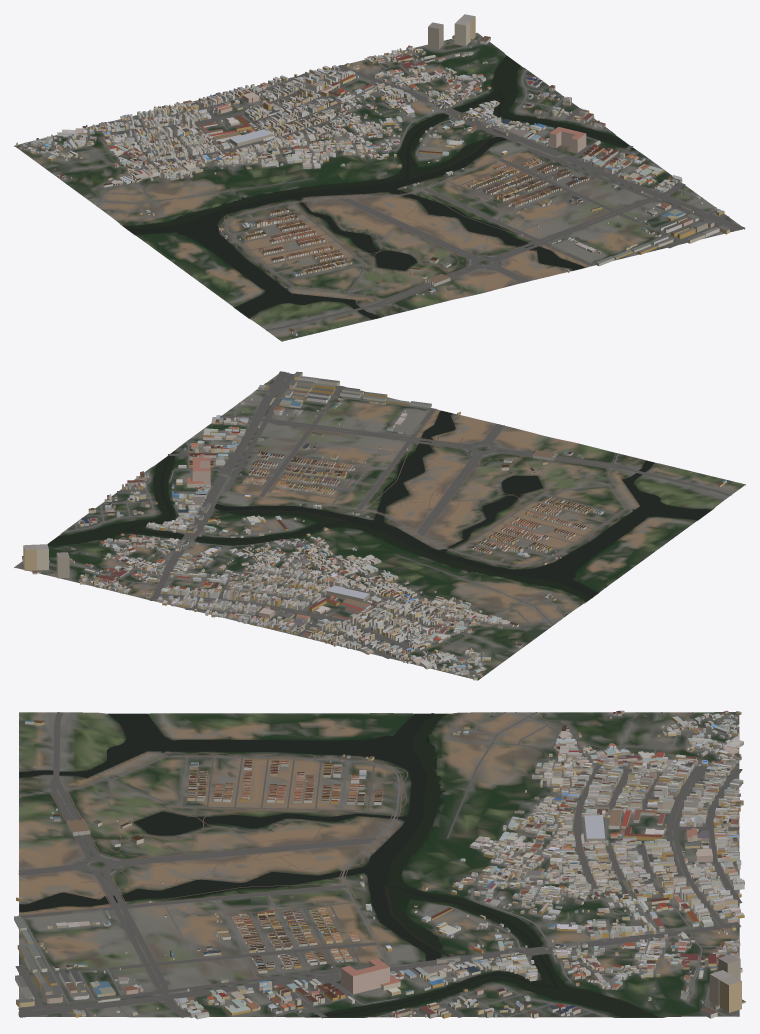
The picture shows the model from 3 angles, top to bottom: view 1: azimuth 30°, elevation 25°; view 2: azimuth 150°, elevation 25°; view 3: azimuth 270°, elevation 25°; orthographic projection. The views are drawn at different scales.
Parts seen in each view (by area): view 1: ground, buildings, roads, water; view 2: ground, buildings, roads, water; view 3: ground, buildings, roads, water.
Boxes of the visible parts, bbox=[...] form: ground: bbox=[14, 33, 744, 341]; buildings: bbox=[16, 14, 729, 335]; roads: bbox=[27, 33, 745, 330]; water: bbox=[122, 55, 636, 319]; ground: bbox=[14, 373, 745, 680]; buildings: bbox=[22, 371, 726, 680]; roads: bbox=[16, 371, 731, 676]; water: bbox=[47, 410, 711, 601]; ground: bbox=[19, 712, 739, 1017]; buildings: bbox=[14, 710, 745, 1019]; roads: bbox=[15, 712, 742, 1017]; water: bbox=[19, 713, 658, 1018].
Size of the model in its own units: 1411 by 66.11 by 1423.
